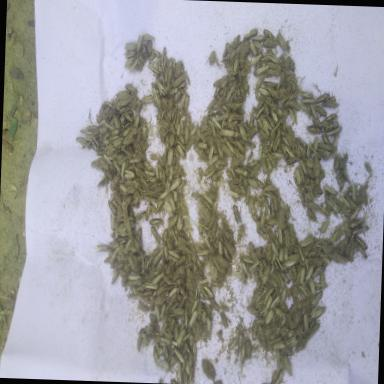pbw: (204, 50, 220, 66), (86, 134, 100, 152), (353, 234, 368, 250), (326, 196, 340, 213), (329, 252, 348, 264), (148, 312, 160, 331), (306, 322, 320, 338), (124, 78, 138, 94), (358, 186, 369, 206), (234, 223, 245, 243), (256, 324, 266, 346), (276, 32, 288, 50), (150, 226, 162, 244), (348, 216, 366, 228), (244, 125, 259, 139), (248, 53, 263, 67), (242, 26, 257, 40), (255, 227, 270, 241), (264, 51, 280, 64), (272, 126, 280, 152), (294, 336, 306, 353), (294, 139, 306, 156), (350, 204, 362, 221), (282, 356, 292, 376), (232, 204, 242, 224), (176, 326, 186, 346), (228, 332, 239, 350), (238, 258, 249, 276), (313, 168, 324, 186), (122, 216, 133, 234), (153, 198, 164, 216), (154, 291, 168, 305), (262, 28, 277, 41), (255, 72, 267, 88), (250, 162, 262, 178), (252, 64, 268, 76), (322, 184, 338, 196), (188, 332, 196, 356), (310, 290, 322, 306), (318, 216, 330, 232), (322, 120, 338, 132), (304, 263, 314, 282), (268, 191, 275, 218), (279, 52, 290, 69), (263, 287, 274, 304), (288, 224, 296, 247), (338, 195, 352, 208), (231, 154, 244, 168), (223, 240, 236, 254), (293, 132, 306, 146), (172, 73, 185, 87), (335, 168, 344, 188), (154, 77, 164, 95), (342, 216, 351, 236), (316, 141, 336, 150), (218, 310, 228, 328), (315, 92, 330, 104), (262, 295, 272, 313), (270, 295, 282, 310), (188, 310, 198, 328), (128, 57, 138, 75), (153, 249, 164, 265), (284, 124, 295, 140), (348, 240, 356, 262), (352, 225, 368, 236), (233, 166, 249, 177), (205, 238, 215, 255), (134, 148, 147, 161), (151, 272, 164, 285), (344, 235, 352, 256), (356, 244, 368, 258), (270, 272, 282, 286), (122, 263, 130, 284), (284, 146, 296, 160), (174, 144, 186, 158), (92, 125, 106, 137), (335, 236, 349, 248), (300, 235, 314, 247), (314, 104, 328, 116), (298, 100, 310, 114), (260, 116, 272, 130), (309, 146, 321, 160), (278, 270, 290, 284), (303, 190, 318, 201), (258, 190, 269, 205), (326, 125, 341, 136), (292, 166, 301, 184), (165, 258, 174, 276), (188, 244, 197, 262), (285, 54, 295, 70), (164, 356, 174, 372), (298, 160, 308, 176), (302, 314, 310, 334), (264, 310, 274, 326), (222, 224, 232, 240), (222, 246, 232, 262), (238, 344, 246, 364), (148, 290, 156, 310), (262, 182, 278, 192), (308, 276, 316, 296), (168, 226, 178, 242), (106, 199, 116, 215), (130, 236, 142, 249), (209, 116, 221, 129), (124, 110, 137, 122), (210, 169, 223, 181), (202, 285, 214, 298), (283, 94, 295, 107), (318, 251, 330, 264), (197, 148, 208, 162), (248, 259, 259, 273), (167, 214, 178, 228), (90, 160, 104, 171), (182, 94, 189, 116), (156, 282, 167, 296), (208, 298, 219, 312), (174, 106, 181, 128), (158, 320, 167, 337), (296, 89, 313, 98), (204, 316, 212, 335), (178, 91, 186, 110), (208, 211, 216, 230), (332, 152, 340, 171), (186, 365, 194, 384), (290, 285, 298, 304), (166, 146, 174, 165), (256, 86, 271, 96), (248, 103, 254, 128), (124, 237, 134, 252), (264, 153, 272, 171), (250, 323, 258, 341), (168, 121, 176, 139), (180, 354, 188, 372), (256, 94, 264, 112), (287, 106, 296, 122), (280, 285, 288, 303), (272, 366, 281, 382), (168, 316, 176, 334), (162, 200, 174, 212), (126, 254, 135, 270), (202, 194, 214, 206), (98, 99, 106, 117), (262, 102, 270, 120), (318, 271, 326, 289), (218, 298, 230, 310), (134, 99, 142, 117), (252, 176, 264, 188), (274, 306, 286, 318), (110, 174, 119, 190), (266, 86, 278, 98), (216, 140, 224, 158), (195, 256, 204, 272), (98, 131, 110, 143), (206, 97, 217, 110), (136, 301, 149, 312), (173, 348, 184, 361), (248, 42, 258, 56), (306, 207, 316, 221), (182, 328, 192, 342), (314, 280, 328, 290), (322, 112, 336, 122), (250, 213, 260, 227), (138, 253, 145, 273), (174, 136, 184, 150), (170, 177, 180, 191), (225, 140, 235, 154), (309, 104, 319, 118), (238, 48, 245, 68), (220, 128, 234, 138), (306, 200, 320, 210), (297, 264, 304, 284), (154, 358, 168, 368), (176, 214, 184, 231), (144, 201, 152, 218), (276, 272, 284, 289), (251, 33, 266, 42), (95, 244, 110, 253), (148, 217, 163, 226), (296, 165, 305, 180), (161, 227, 168, 246), (182, 306, 188, 328), (134, 209, 146, 220), (204, 168, 215, 180), (297, 285, 309, 296), (201, 198, 212, 210), (176, 254, 187, 266), (140, 94, 152, 105), (198, 212, 204, 234), (236, 140, 246, 153), (147, 65, 160, 75), (124, 56, 134, 69), (273, 371, 283, 384), (191, 188, 204, 198), (262, 80, 278, 88), (110, 268, 118, 284), (144, 254, 152, 270), (286, 313, 294, 329), (175, 368, 183, 384), (132, 113, 140, 129), (342, 168, 350, 184), (114, 90, 130, 98), (296, 246, 304, 262), (271, 194, 278, 212), (212, 258, 221, 272), (278, 208, 284, 229), (340, 151, 347, 169), (119, 114, 126, 132), (178, 286, 187, 300), (288, 301, 297, 315), (131, 140, 142, 151), (206, 118, 216, 130), (312, 182, 322, 194), (216, 112, 228, 122), (112, 136, 124, 146), (320, 131, 330, 143), (340, 204, 350, 216), (300, 297, 312, 307), (287, 268, 295, 283), (285, 336, 297, 346), (244, 184, 250, 204), (122, 124, 132, 136), (166, 66, 172, 86), (252, 40, 264, 50), (258, 127, 268, 139), (306, 164, 314, 179), (124, 186, 136, 196), (262, 121, 270, 136), (246, 178, 258, 188), (114, 213, 126, 223), (168, 196, 176, 211), (158, 190, 170, 200), (116, 98, 128, 108), (196, 300, 202, 320), (331, 132, 338, 149), (135, 335, 142, 352), (264, 203, 271, 220), (265, 218, 278, 227), (254, 297, 263, 310), (106, 107, 115, 120), (74, 136, 87, 145), (280, 69, 286, 88), (284, 80, 292, 94), (256, 104, 264, 118), (166, 296, 174, 310), (191, 298, 198, 314), (157, 154, 165, 168), (119, 106, 133, 114), (232, 34, 240, 48), (246, 306, 260, 314), (270, 342, 284, 350), (278, 315, 286, 329), (144, 282, 158, 290), (196, 248, 210, 256), (189, 124, 197, 138), (122, 50, 136, 58), (290, 78, 298, 92), (210, 124, 217, 140), (158, 127, 165, 143), (154, 58, 162, 72), (266, 68, 280, 76), (270, 110, 278, 124), (283, 259, 297, 267), (145, 40, 152, 56), (212, 77, 222, 88), (220, 77, 230, 88), (208, 154, 219, 164), (172, 67, 182, 78), (312, 265, 322, 276), (103, 98, 114, 108), (280, 92, 291, 102), (244, 138, 255, 148), (135, 282, 146, 292), (319, 206, 330, 216), (185, 282, 196, 292), (306, 140, 312, 158), (154, 304, 160, 322), (150, 85, 156, 103), (120, 159, 126, 177), (136, 34, 142, 52), (172, 323, 178, 341), (154, 164, 160, 182), (123, 169, 135, 178), (124, 42, 136, 51), (237, 125, 246, 137), (351, 184, 357, 202), (160, 302, 166, 320), (275, 350, 281, 368), (184, 126, 190, 144), (109, 212, 115, 230), (128, 179, 140, 188), (104, 121, 116, 130), (236, 69, 243, 84), (152, 345, 159, 360), (207, 144, 214, 159), (242, 256, 255, 264), (128, 156, 141, 164), (227, 190, 240, 198), (160, 97, 168, 110), (269, 336, 282, 344), (270, 242, 278, 255), (172, 89, 180, 102), (166, 237, 174, 250), (245, 159, 258, 167), (225, 169, 233, 182), (276, 227, 282, 244), (237, 332, 243, 349), (218, 240, 224, 257), (160, 46, 166, 63), (312, 239, 322, 249), (142, 160, 152, 170), (103, 154, 112, 165), (185, 138, 192, 152), (261, 256, 268, 270), (199, 310, 206, 324), (136, 57, 143, 71), (111, 246, 118, 260), (278, 246, 284, 262), (168, 286, 176, 298), (144, 189, 156, 197), (274, 103, 282, 115), (162, 343, 168, 359), (163, 246, 169, 262), (108, 128, 120, 136), (224, 90, 232, 102), (260, 212, 266, 228), (246, 150, 254, 162), (324, 96, 336, 104), (286, 156, 298, 164), (237, 182, 245, 194), (312, 136, 318, 152), (140, 290, 152, 298), (113, 160, 121, 172), (131, 94, 137, 110), (300, 98, 316, 104), (272, 152, 284, 160), (256, 144, 262, 160), (168, 250, 180, 258), (102, 150, 118, 156), (158, 336, 170, 344), (162, 56, 168, 72), (174, 60, 182, 72), (142, 195, 155, 202), (175, 165, 182, 178), (79, 128, 92, 135), (85, 124, 98, 131), (182, 369, 188, 384), (160, 118, 170, 127), (152, 48, 161, 58), (171, 111, 177, 126), (278, 110, 288, 119), (202, 129, 211, 139), (140, 178, 150, 187), (163, 146, 168, 164), (212, 267, 218, 282), (231, 102, 242, 110), (240, 87, 246, 101), (160, 72, 166, 86), (138, 167, 145, 179), (230, 78, 236, 92), (213, 86, 220, 98), (114, 116, 120, 130), (242, 76, 248, 90), (232, 59, 238, 73), (195, 126, 201, 140), (292, 264, 298, 278), (184, 115, 190, 129), (141, 126, 147, 140), (142, 33, 154, 40), (212, 280, 222, 288), (168, 164, 173, 180), (306, 250, 316, 258), (170, 301, 178, 311), (154, 186, 164, 194), (208, 106, 218, 114), (124, 194, 132, 204), (282, 136, 290, 146), (122, 148, 132, 156), (234, 113, 244, 121), (98, 119, 106, 129), (168, 86, 178, 94), (184, 266, 190, 279), (168, 132, 174, 145), (168, 96, 174, 109), (195, 142, 208, 148), (127, 274, 140, 280), (136, 226, 142, 239), (116, 236, 127, 243), (221, 47, 228, 58), (206, 304, 212, 316), (178, 296, 184, 308), (118, 183, 126, 192), (216, 163, 224, 172), (110, 262, 122, 268), (164, 84, 170, 96), (132, 164, 138, 176), (172, 308, 184, 314), (156, 110, 161, 124), (225, 42, 232, 52), (290, 103, 300, 110), (185, 360, 190, 374), (142, 44, 147, 58), (146, 176, 157, 182), (148, 51, 154, 62), (230, 49, 236, 60), (173, 190, 178, 203), (278, 116, 286, 124), (178, 80, 186, 88), (101, 138, 109, 146), (284, 247, 288, 262), (199, 278, 209, 284), (144, 170, 154, 176), (178, 134, 184, 144), (162, 169, 166, 183), (170, 107, 174, 121), (176, 122, 180, 136), (164, 113, 170, 122), (187, 355, 192, 365), (220, 58, 228, 64), (169, 340, 177, 346)
